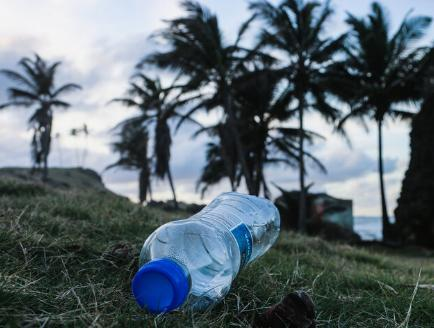bottle: (124, 192, 285, 318)
